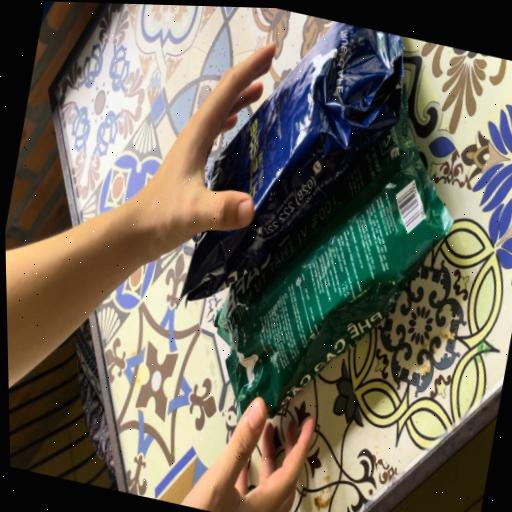cafe_hat: (182, 20, 403, 300)
cafe_xay: (227, 160, 453, 415)
